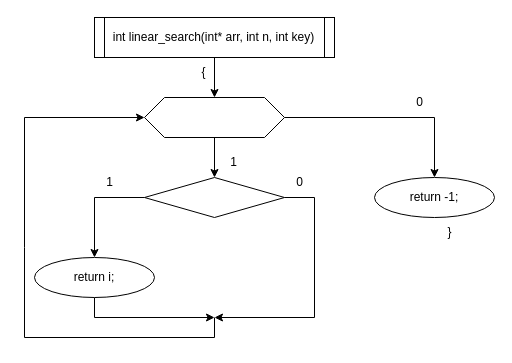
This 512x363 diagram has some shape labels left out. Each missing label, with the centre of its shape:
for (int i = 0; i < n; i++): the point at 214,117
if (arr[i] == key): the point at 214,197
